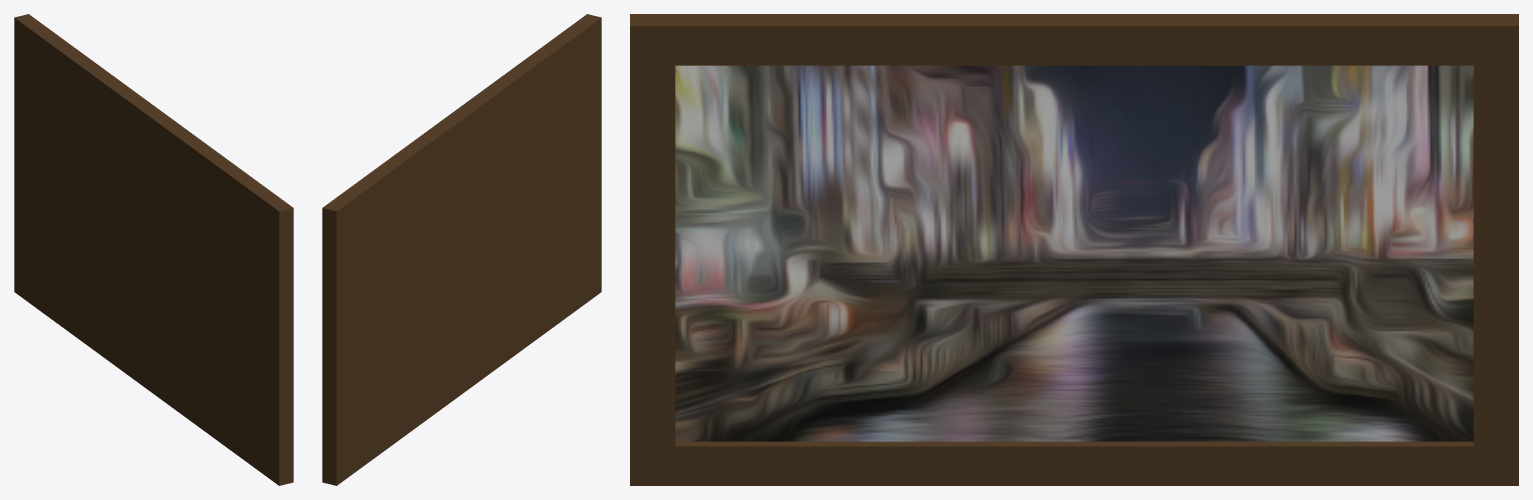
The model's file is bild.fbx.
The picture shows the model from 3 angles, left to right: view 1: azimuth 30°, elevation 25°; view 2: azimuth 150°, elevation 25°; view 3: azimuth 270°, elevation 25°; orthographic projection. The views are drawn at different scales.
Visible parts, largest first — view 1: Würfel; view 2: Würfel; view 3: Würfel_2, Würfel.
Boxes of the visible parts, x1,y1,x2,y2 form: Würfel: (14,14,293,485); Würfel: (322,14,601,485); Würfel_2: (675,65,1473,441); Würfel: (630,14,1518,485).
Bounding box in the file's own units: 9.32 × 169 × 295.
2 materials, 1 textured.
